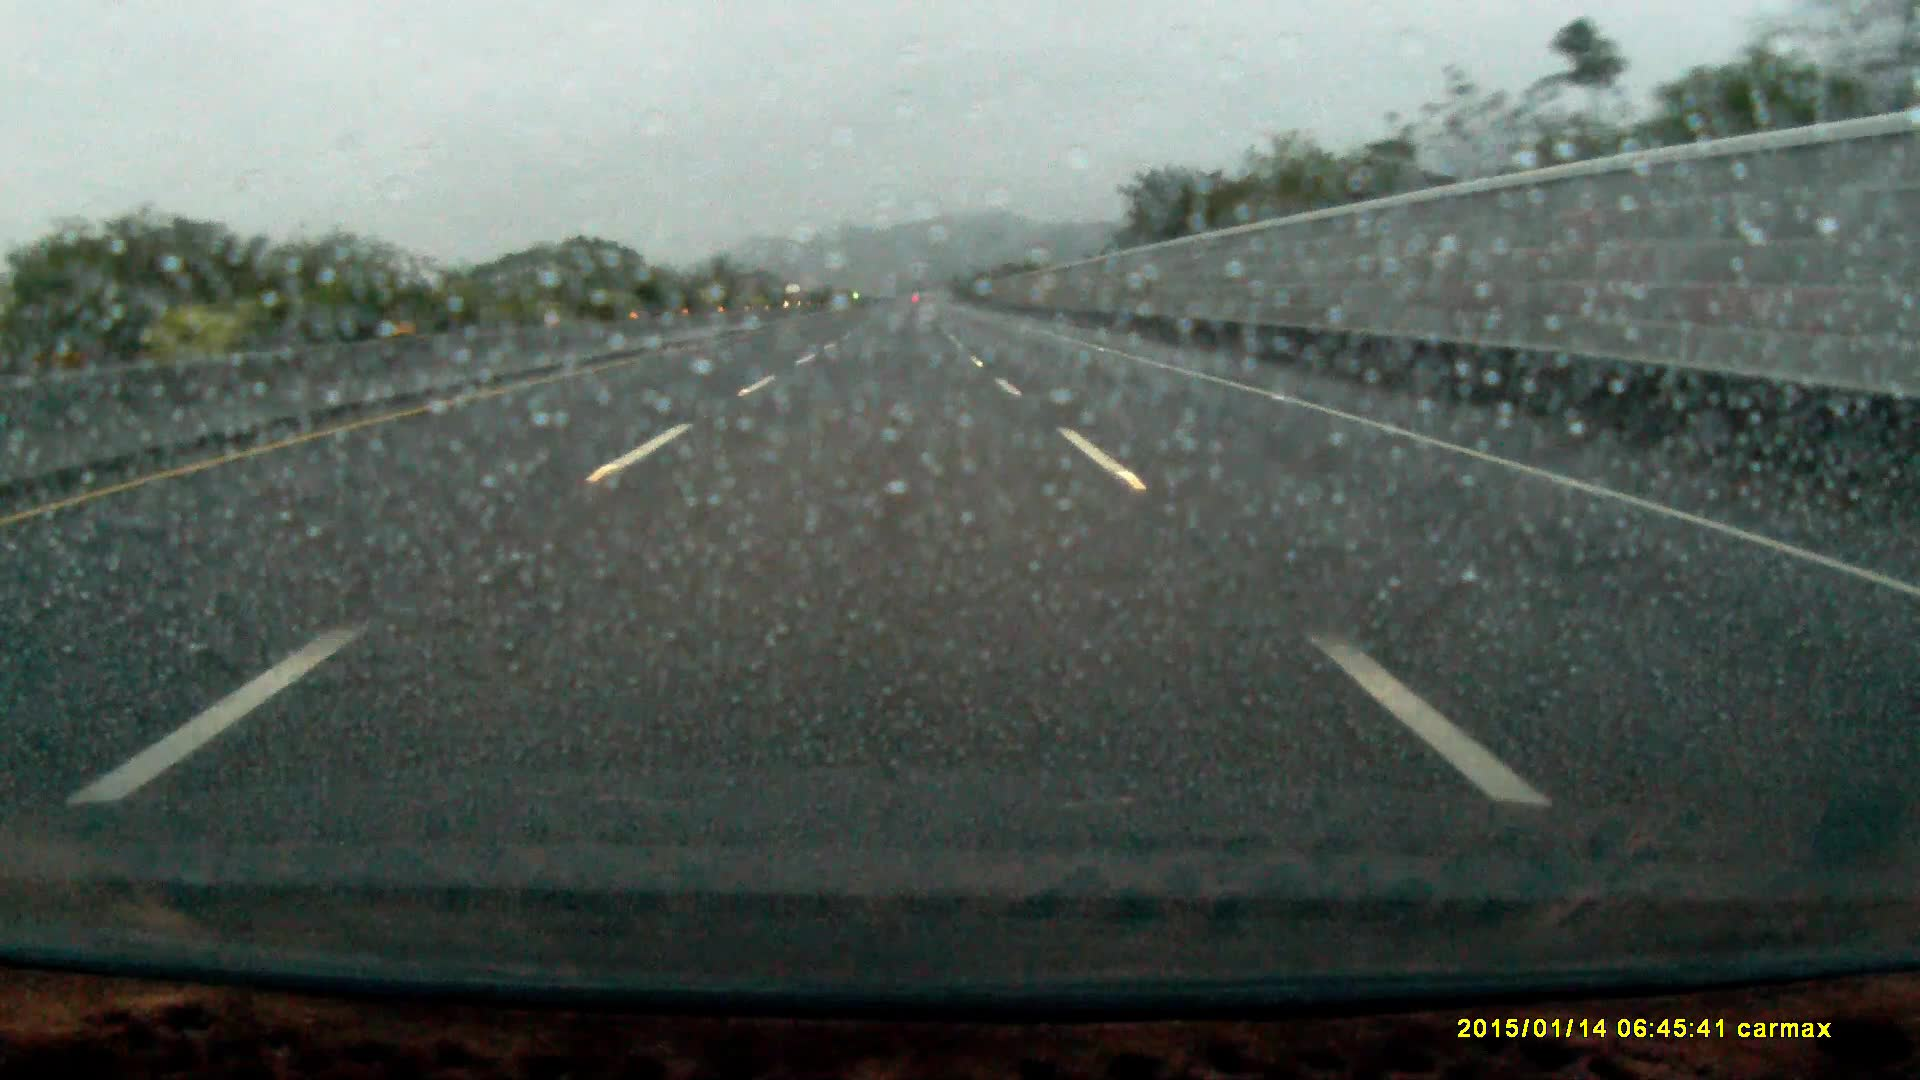vehicle: (785, 282, 810, 307)
